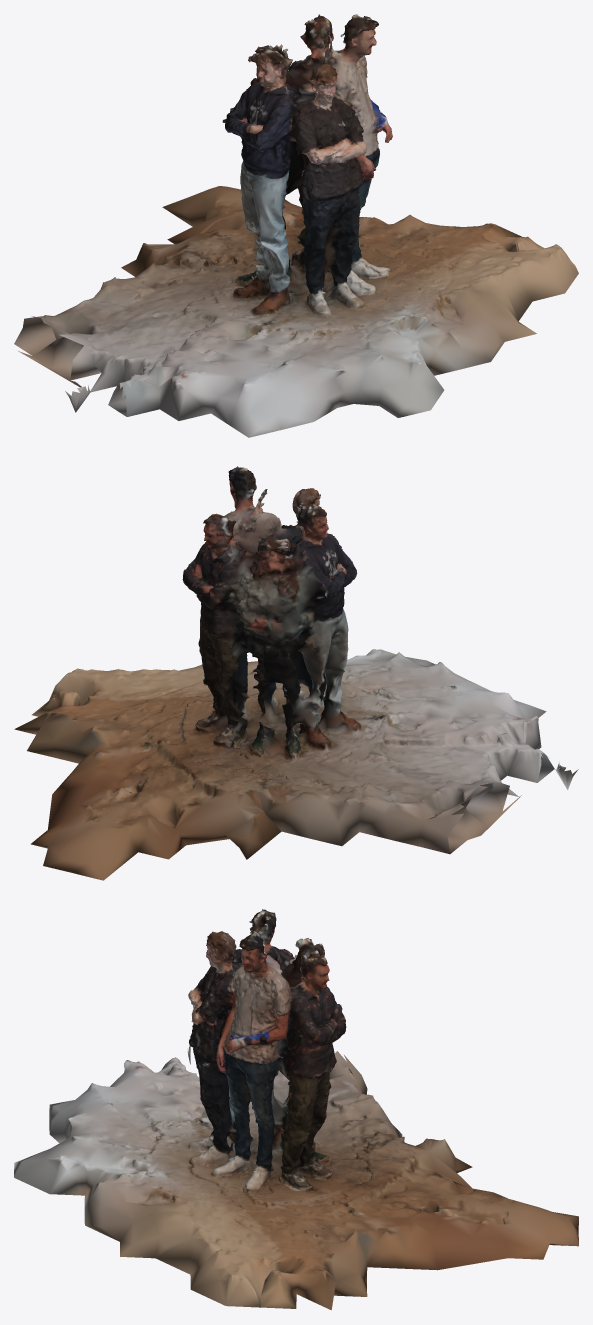
File: asset.glb
3 views of the same model, one above another, from view 1: azimuth 30°, elevation 25°; view 2: azimuth 150°, elevation 25°; view 3: azimuth 270°, elevation 25° (orthographic). The views are drawn at different scales.
Visible parts, largest first — view 1: Mesh_0_Part_0; view 2: Mesh_0_Part_0; view 3: Mesh_0_Part_0.
Boxes of the visible parts, <box> form: Mesh_0_Part_0: <box>14,14,578,437</box>; Mesh_0_Part_0: <box>14,466,578,880</box>; Mesh_0_Part_0: <box>14,909,578,1310</box>.
Size of the model in its own units: 70.02 by 39.35 by 68.46.
